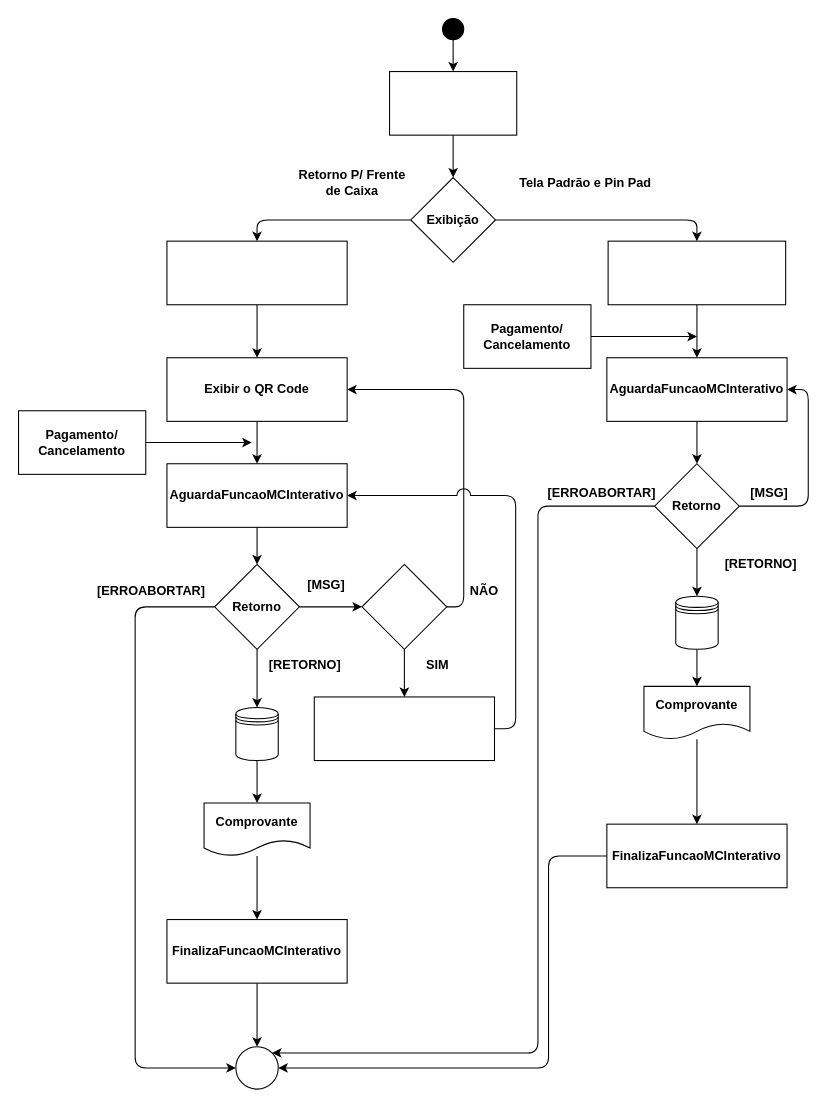
Some shapes in this 835 by 1108 pixel diagram are drawn without their labels. Here are the shapes that lost their labels. From the top down, the centre of each, then its label:
point 452,102: Criação da Cobrança
point 256,272: Criar Janela com QR Code Retornado
point 696,272: Exibição do QRCode
point 404,606: Cancelar Transação
point 403,728: ContinuaFuncaoMCInterativo
point 256,1067: Fim
